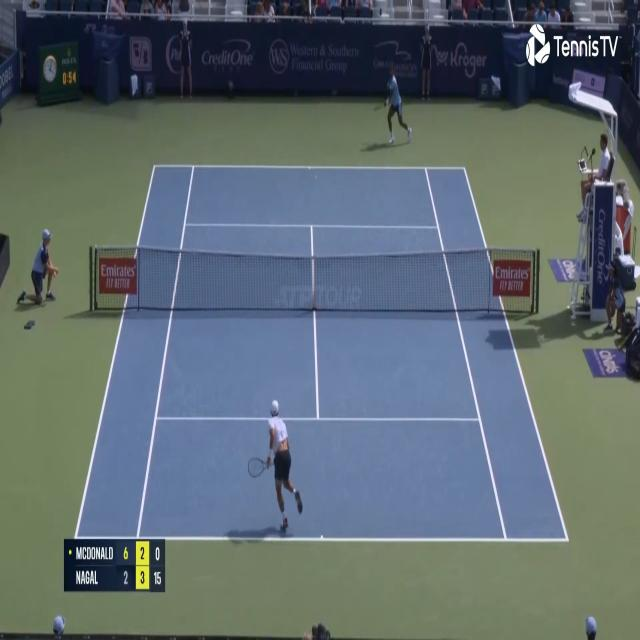tennis-player: (248, 396, 306, 534), (381, 62, 414, 147)
